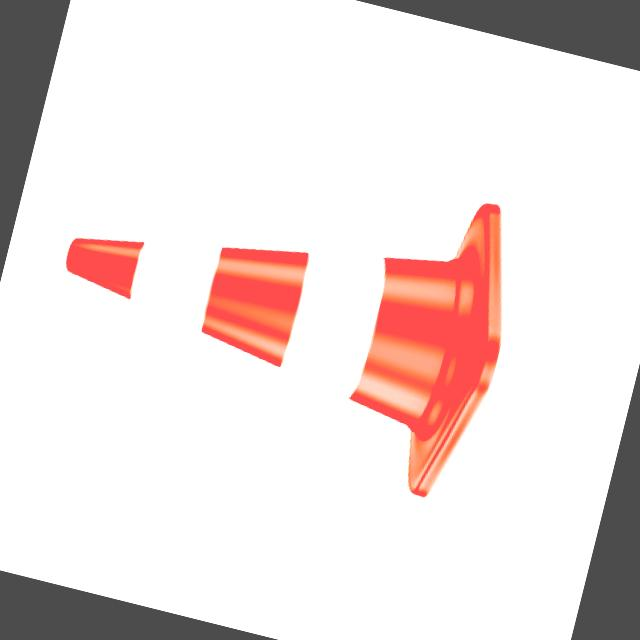cone: (30, 132, 531, 476)
